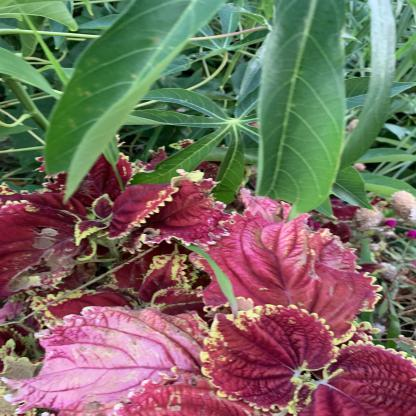Bunga Coleus: (10, 190, 410, 410)
